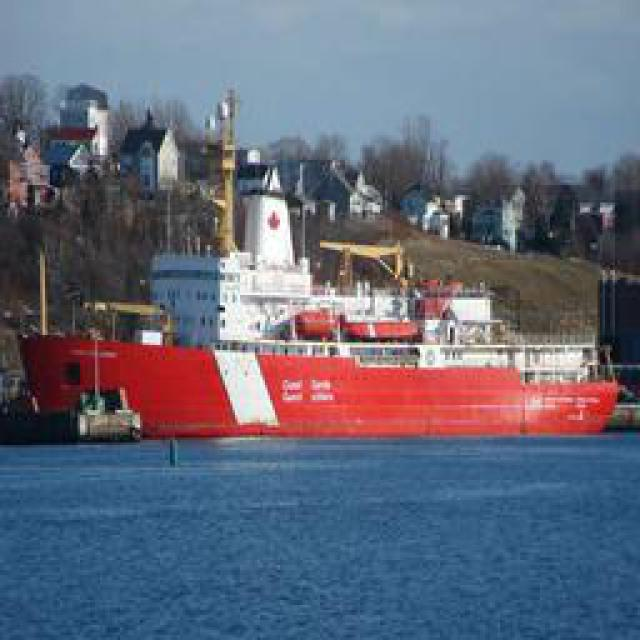Ship: (14, 294, 619, 447)
